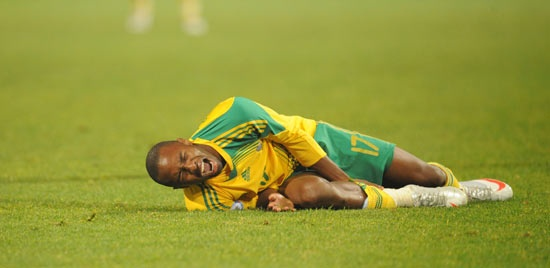falling: (142, 79, 520, 220)
